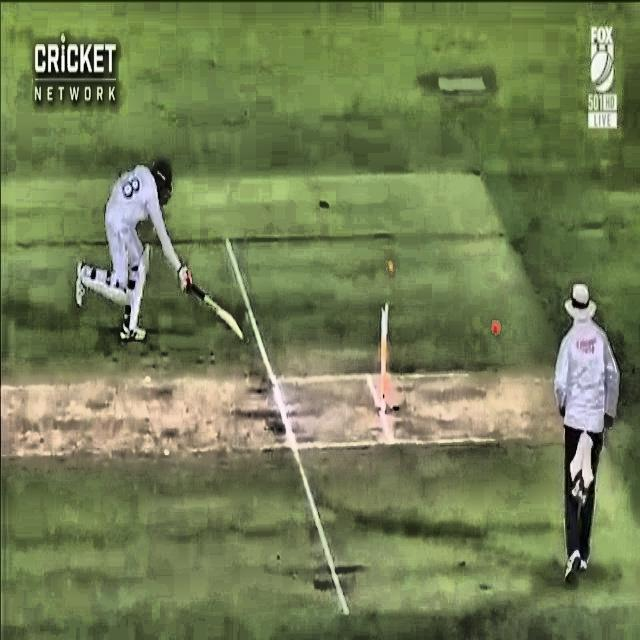Ball: (478, 310, 512, 342)
Bat: (171, 265, 248, 344)
Dis_Wicket: (373, 253, 408, 421)
Pitch_Line: (223, 238, 348, 616)
